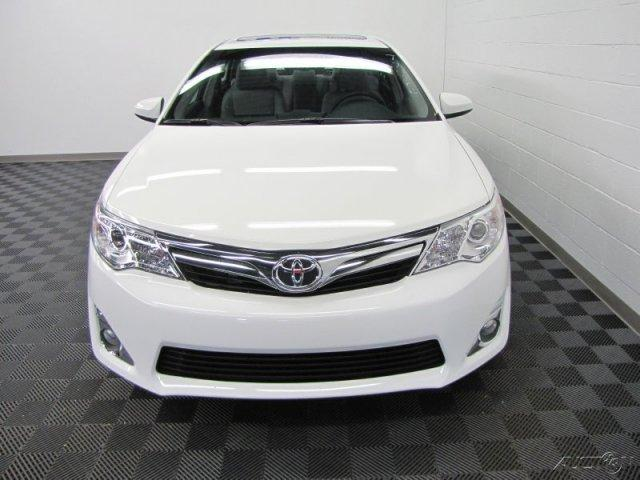Sedan: (86, 31, 513, 401)
